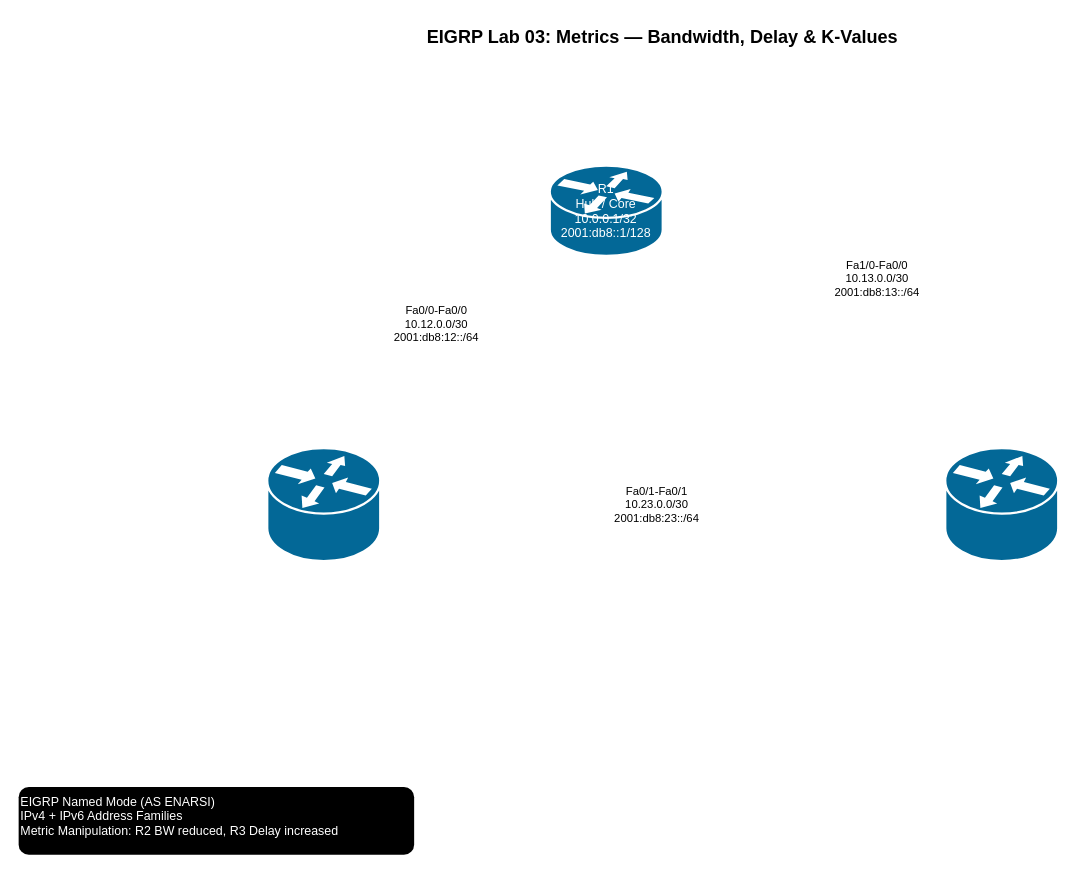
This 1077x873 diagram has some shape labels left out. Here are the shapes that lost their labels. From the top down, the box of each, then its label:
(266, 446, 381, 562): R2 Branch A 10.0.0.2/32 2001:db8::2/128 Fa0/0: BW=100
(944, 446, 1059, 562): R3 Branch B 10.0.0.3/32 2001:db8::3/128 Fa0/0: Delay=10000
